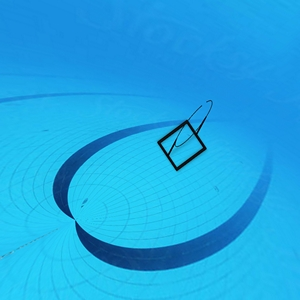circle: (159, 99, 214, 174)
